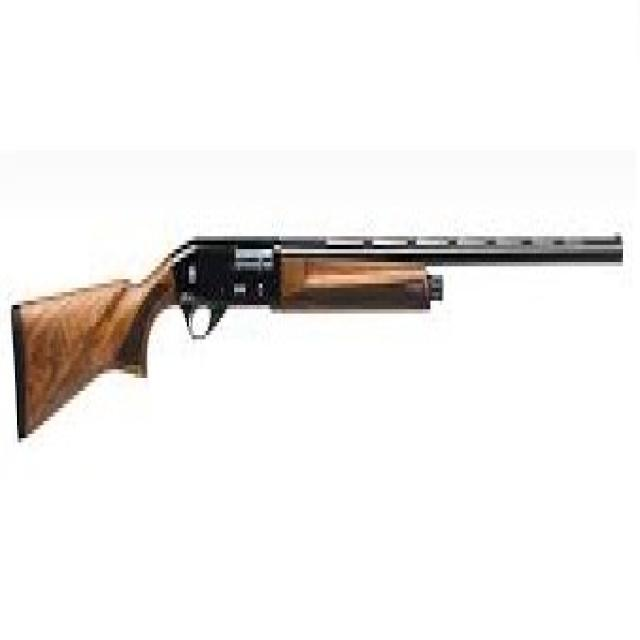rifle: (5, 220, 627, 455)
